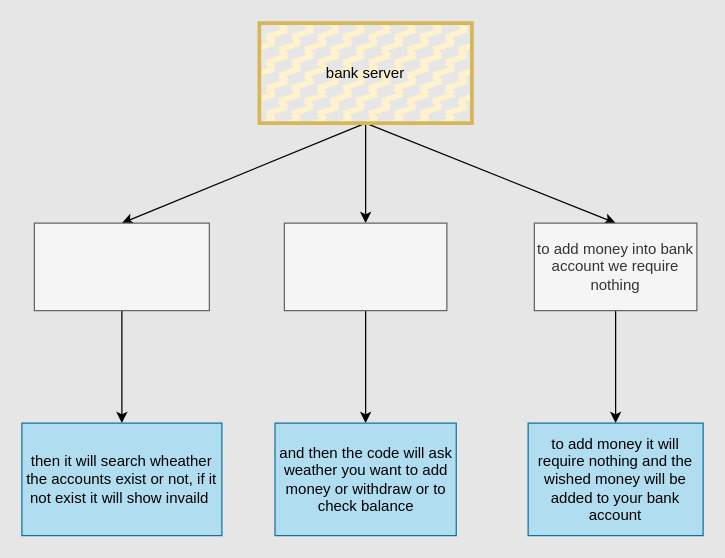
Image size: 725x558. Some labels were removed from this diagram. Here are the shapes that lost their labels. From the top down, the centre of each, then its label:
At point 121,266: "code will ask for name".
At point 365,266: "if the name is there it will show acc. no., address, other details".
